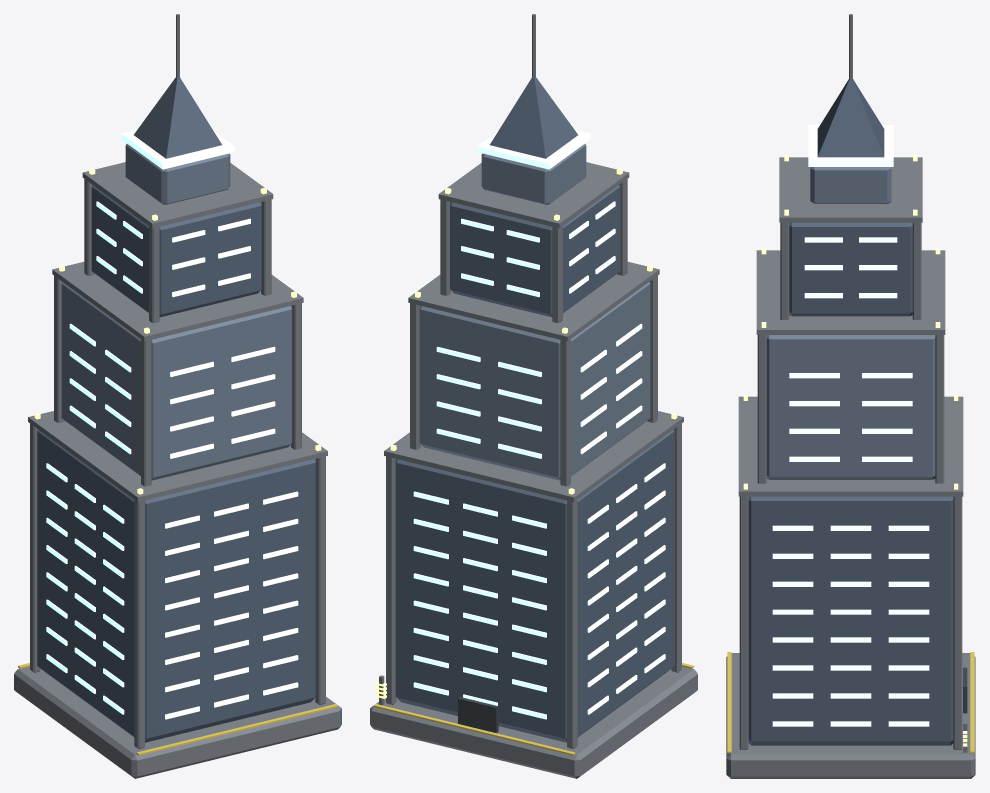
File: zone_high_4_t4.glb
3 renders of one model, left to right at view 1: azimuth 30°, elevation 25°; view 2: azimuth 150°, elevation 25°; view 3: azimuth 270°, elevation 25°, orthographic. The views are drawn at different scales.
Visible parts, largest first — view 1: zone_high_4_t4, detail; view 2: zone_high_4_t4, detail; view 3: zone_high_4_t4, detail.
Boxes of the visible parts, <box> form: zone_high_4_t4: <box>14,77,341,778</box>; detail: <box>18,14,337,755</box>; zone_high_4_t4: <box>370,77,697,778</box>; detail: <box>374,14,693,755</box>; zone_high_4_t4: <box>726,79,975,778</box>; detail: <box>727,14,974,753</box>.
Size of the model in its own units: 27.5 by 86.86 by 27.5.
